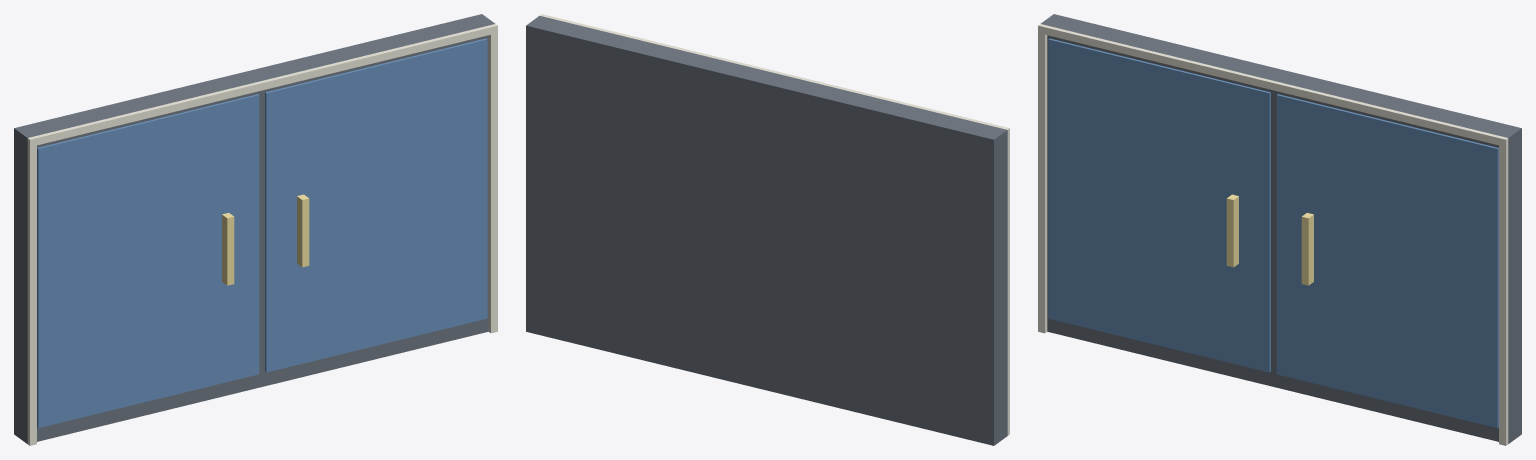
Rendered from kit_arcade_closed_doors.glb.
3 renders of one model, left to right at view 1: azimuth 30°, elevation 25°; view 2: azimuth 150°, elevation 25°; view 3: azimuth 330°, elevation 25°, orthographic.
Visible parts, largest first — view 1: kit_arcade_closed_doors-col; view 2: kit_arcade_closed_doors-col; view 3: kit_arcade_closed_doors-col.
Part boxes in pixels (<box>): kit_arcade_closed_doors-col: <box>14,14,497,445</box>; kit_arcade_closed_doors-col: <box>526,14,1009,445</box>; kit_arcade_closed_doors-col: <box>1038,14,1521,445</box>.
Size of the model in its own units: 4 by 2.5 by 0.3.
